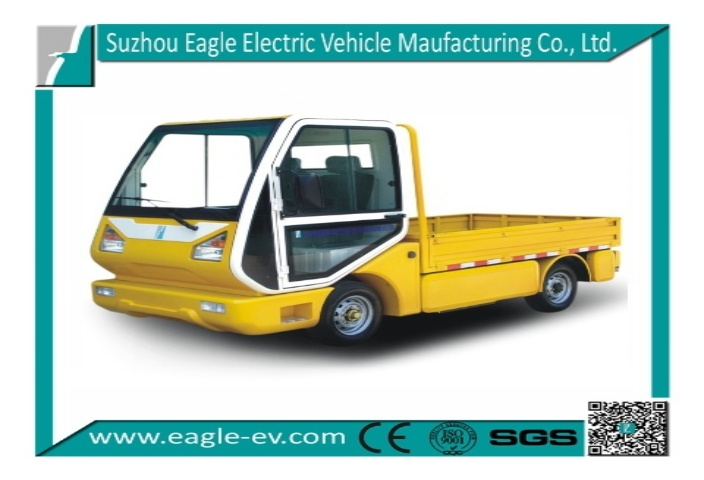industrial: (86, 81, 629, 347)
